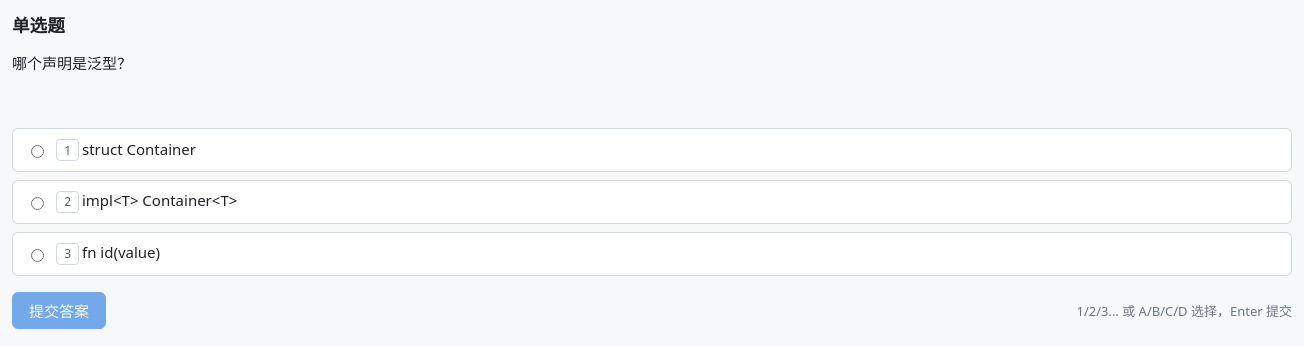
Test: SingleChoice › renders options; clicking selects without submitting
Expected: the text "impl<T> Container<T>" is shown, [82, 190, 237, 210]
Expected: the button "提交答案" is disabled, [12, 292, 106, 329]
Click the radio button labelled "2 impl<T> Container<T>".
click(37, 203)  # box [31, 197, 44, 210]
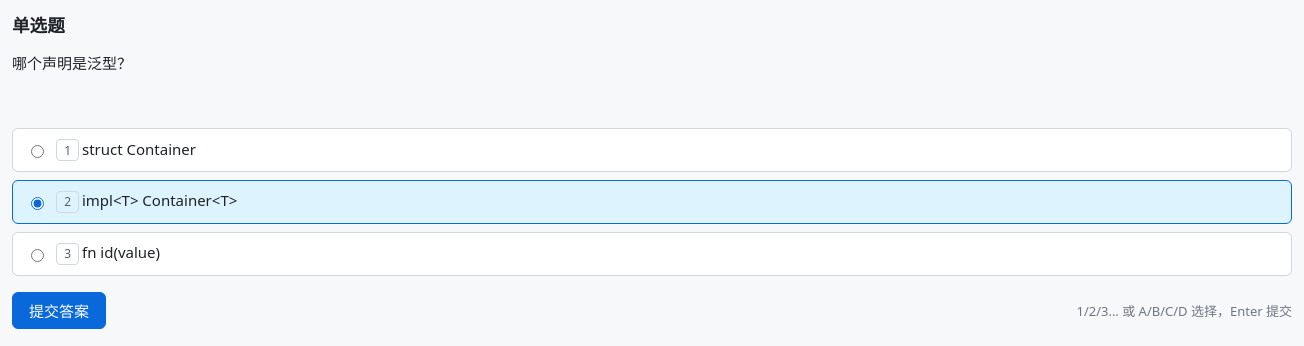
Expected: the radio button labelled "2 impl<T> Container<T>" is checked, [31, 197, 44, 210]
Expected: the button "提交答案" is enabled, [12, 292, 106, 329]
